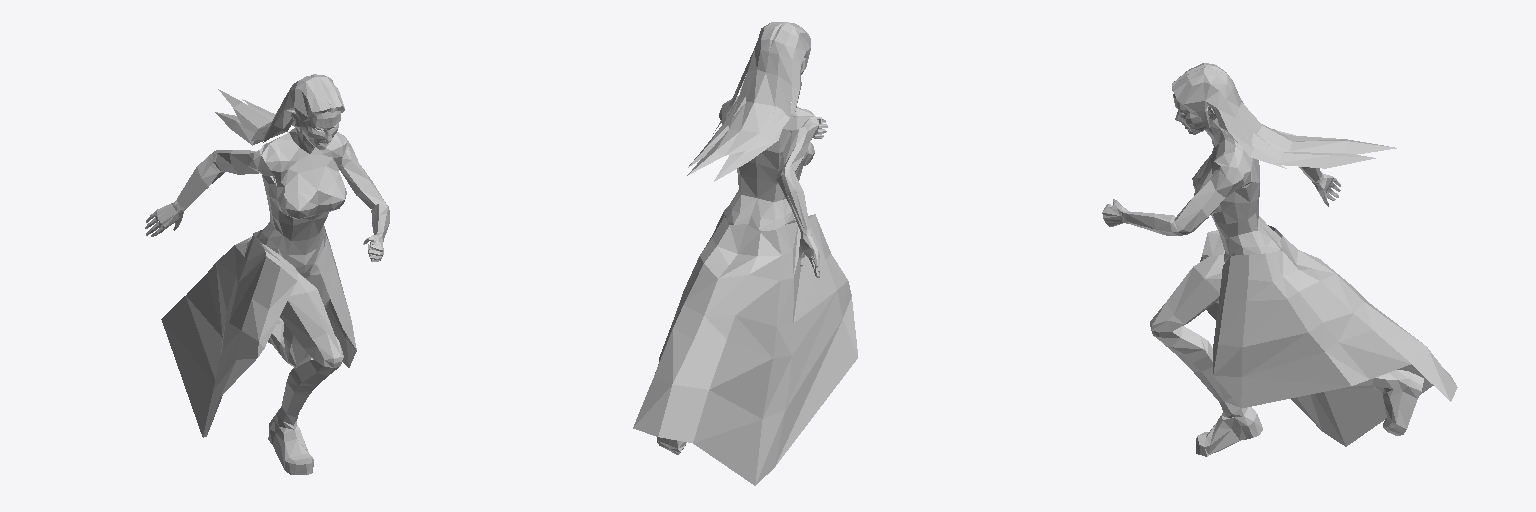
Rendered from running_015.obj.
3 views of the same model, side by side, from view 1: azimuth 30°, elevation 25°; view 2: azimuth 150°, elevation 25°; view 3: azimuth 270°, elevation 25° (orthographic).
Parts seen in each view (by area): view 1: Plane.001_Plane.007, Plane.003_Plane.008, capelli.001_Plane.006; view 2: Plane.003_Plane.008, capelli.001_Plane.006, Plane.001_Plane.007; view 3: Plane.003_Plane.008, Plane.001_Plane.007, capelli.001_Plane.006.
Part boxes in pixels (left/top/right/bottom): Plane.001_Plane.007: left=145, top=91, right=389, bottom=474; Plane.003_Plane.008: left=161, top=229, right=356, bottom=437; capelli.001_Plane.006: left=215, top=74, right=344, bottom=145; Plane.003_Plane.008: left=633, top=206, right=857, bottom=485; capelli.001_Plane.006: left=687, top=22, right=810, bottom=181; Plane.001_Plane.007: left=657, top=61, right=827, bottom=454; Plane.003_Plane.008: left=1200, top=225, right=1457, bottom=446; Plane.001_Plane.007: left=1102, top=78, right=1423, bottom=456; capelli.001_Plane.006: left=1172, top=63, right=1396, bottom=168.
Size of the model in its own units: 2.11 by 4.97 by 3.98.